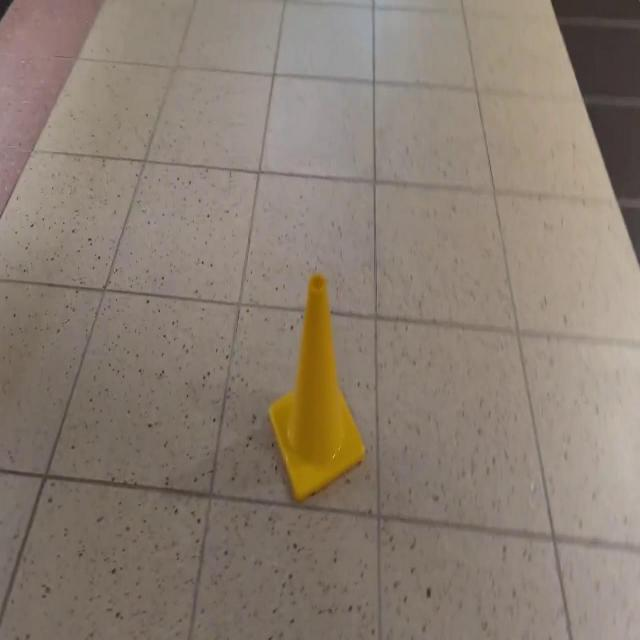frc_cone: (269, 271, 365, 501)
